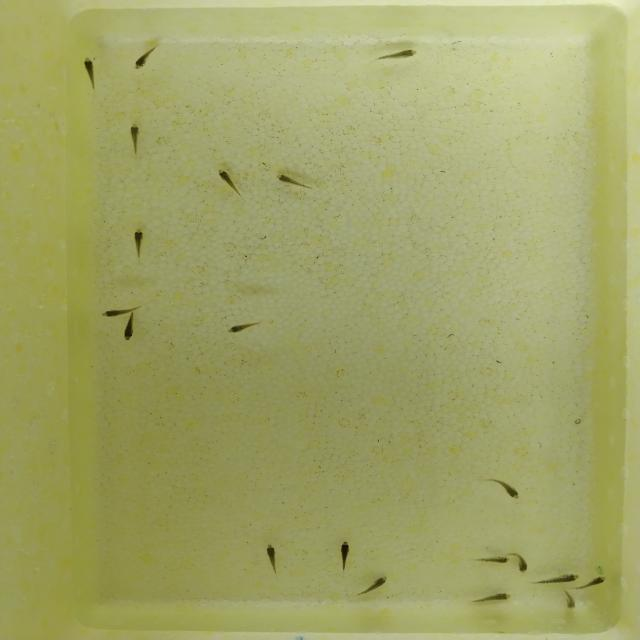fingerling: (117, 221, 159, 266), (266, 168, 324, 196), (480, 472, 531, 502), (213, 315, 270, 341), (366, 43, 422, 69), (209, 161, 245, 201), (76, 50, 107, 94), (127, 42, 168, 75), (118, 118, 150, 158), (352, 574, 393, 602), (258, 538, 284, 578), (112, 317, 149, 344), (331, 536, 357, 574), (465, 588, 517, 607), (534, 570, 584, 588), (510, 544, 534, 578), (461, 552, 510, 567), (92, 305, 140, 316), (559, 591, 579, 614), (586, 572, 612, 589)
